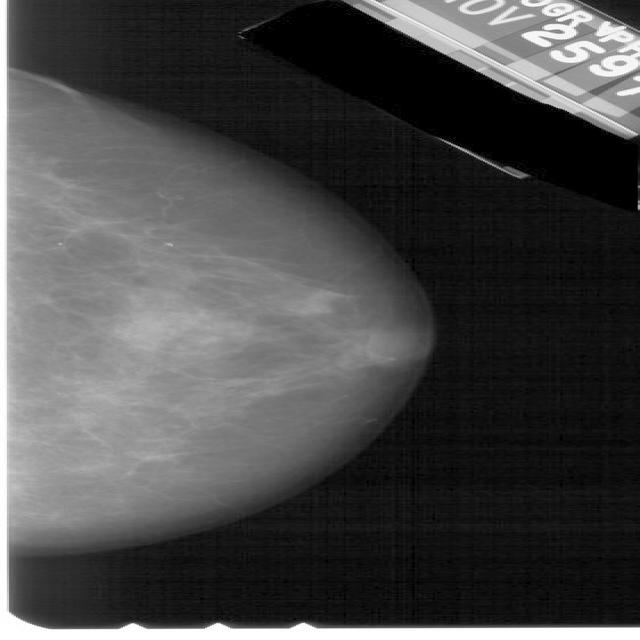tumour: (271, 288, 344, 316)
